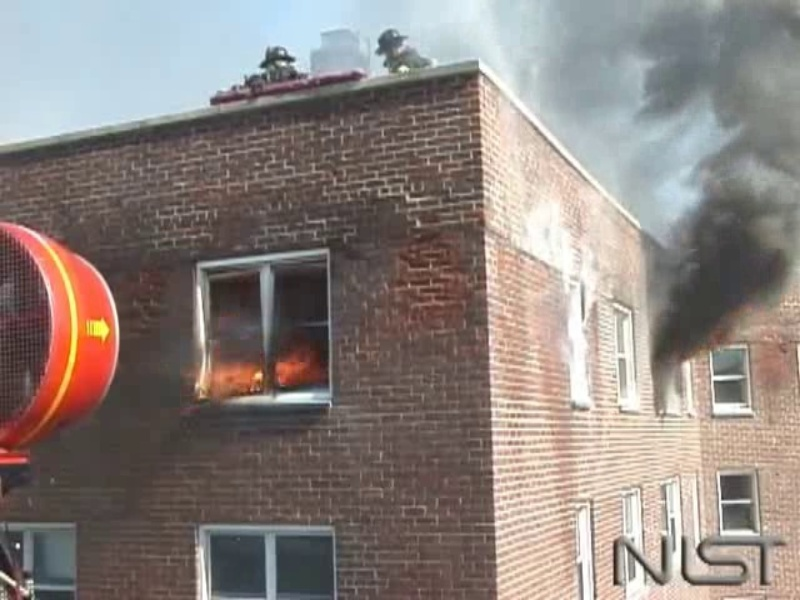smoke: (607, 1, 797, 304)
